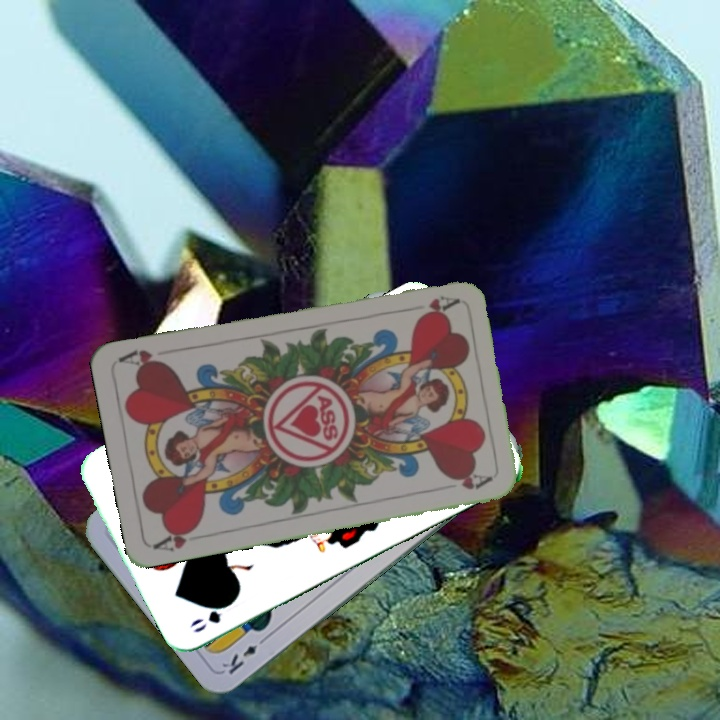EK: (217, 632, 271, 678)
GO: (185, 594, 239, 636)
HA: (149, 521, 203, 554), (400, 291, 459, 318)
